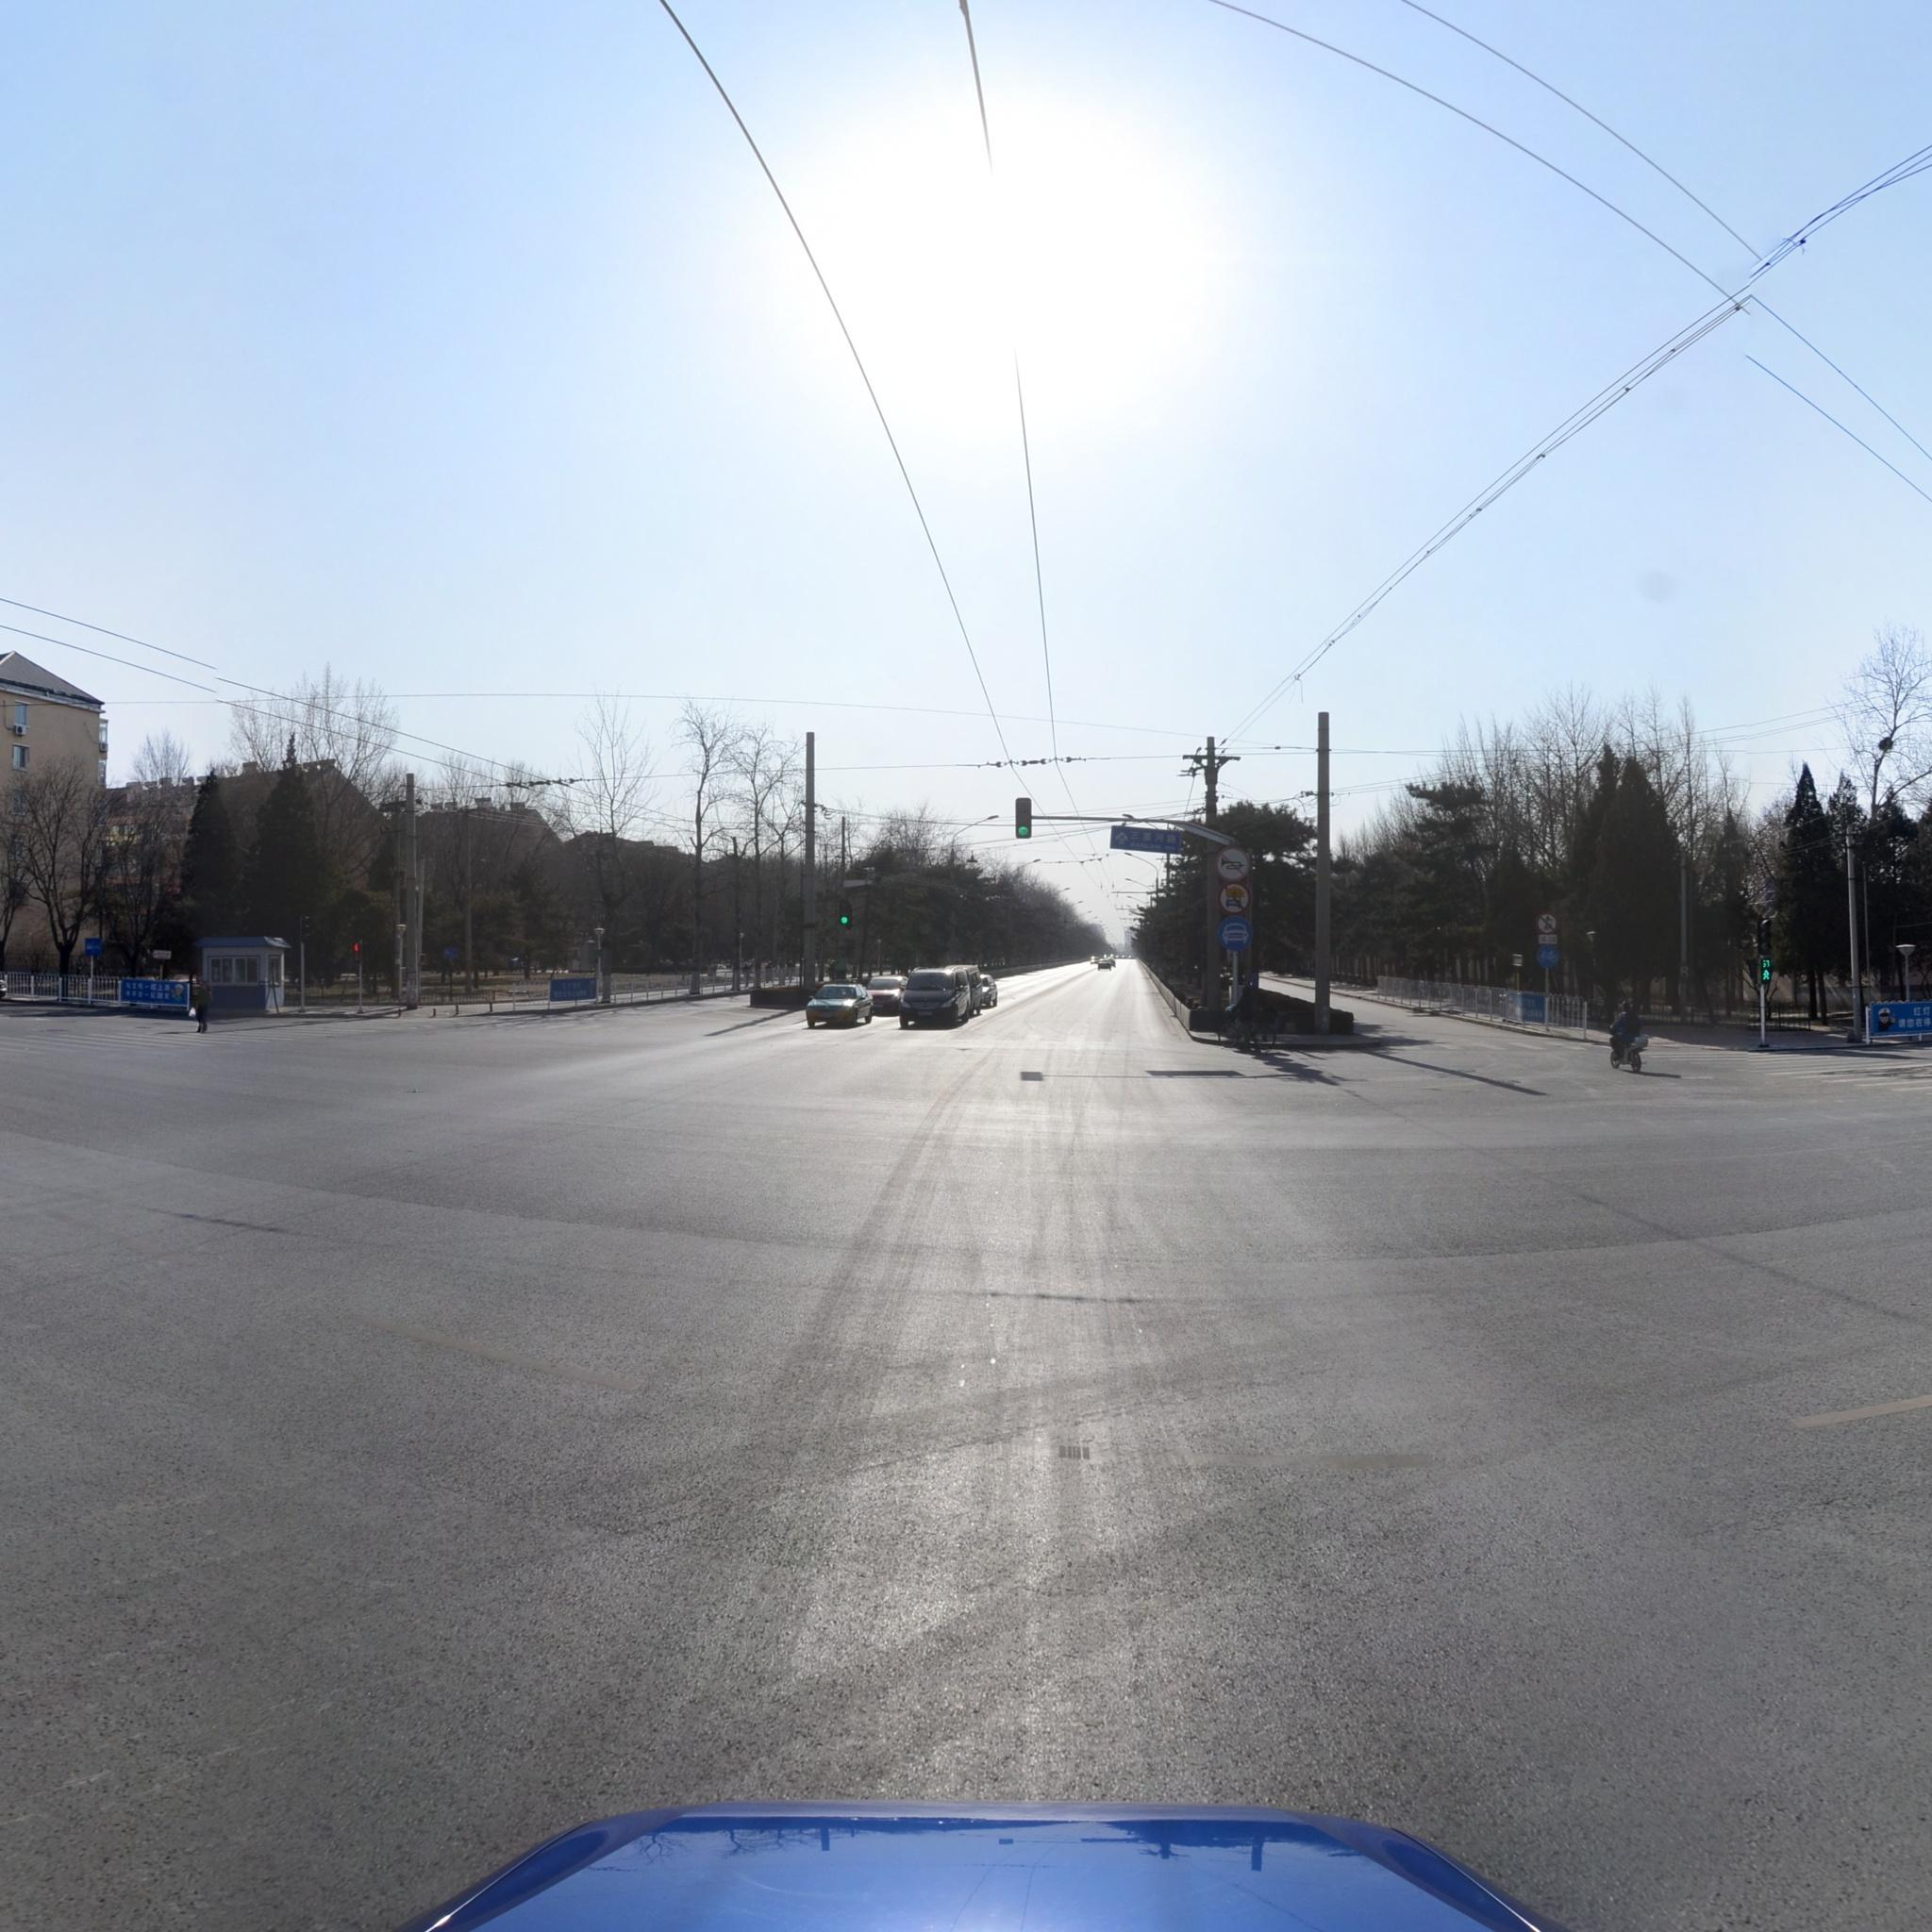p11: (1215, 847, 1249, 883)
